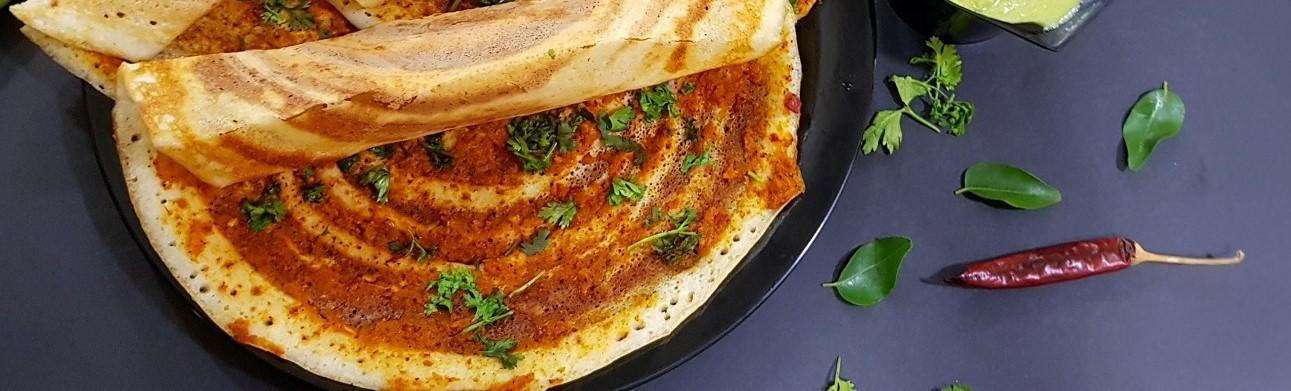Dosa: (114, 0, 805, 391), (12, 2, 537, 98)
